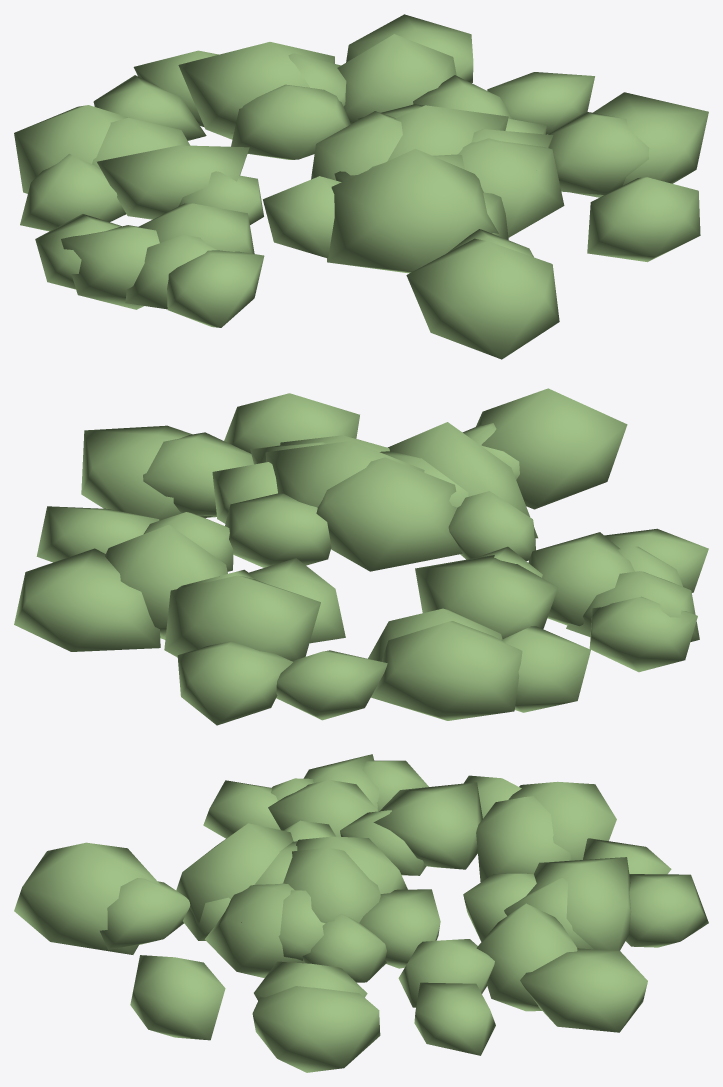
Rendered from Blender_Juniper_2.glb.
3 renders of one model, top to bottom at view 1: azimuth 30°, elevation 25°; view 2: azimuth 150°, elevation 25°; view 3: azimuth 270°, elevation 25°, orthographic. The views are drawn at different scales.
Visible parts, largest first — view 1: Blender_Juniper_2; view 2: Blender_Juniper_2; view 3: Blender_Juniper_2.
Boxes of the visible parts, bbox=[...] form: Blender_Juniper_2: bbox=[14, 14, 708, 359]; Blender_Juniper_2: bbox=[14, 388, 708, 725]; Blender_Juniper_2: bbox=[14, 754, 708, 1072].
Bounding box in the file's own units: 3.82 × 0.8288 × 3.89.
